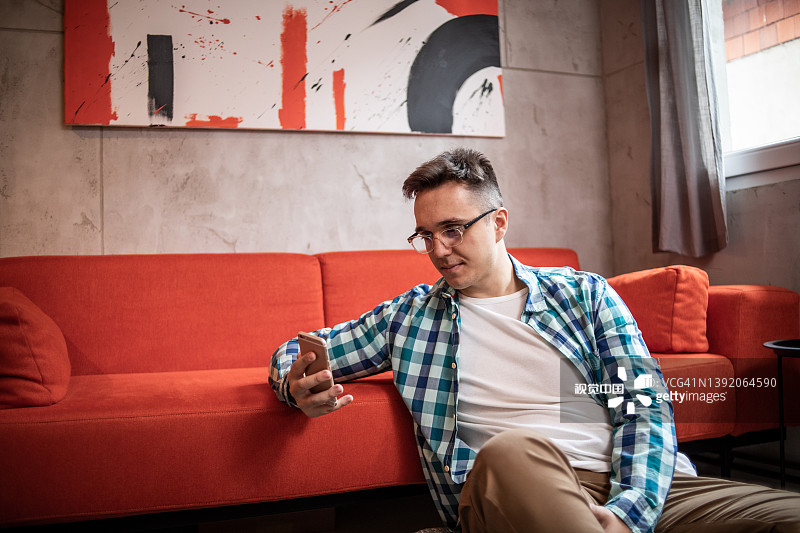reading: (276, 327, 355, 423)
